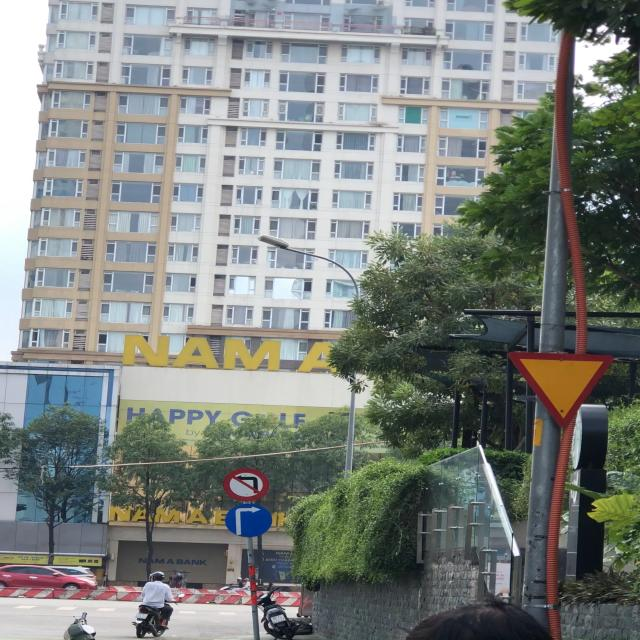Bien bao cam re trai: (224, 464, 271, 502)
Bien bao giao nhau voi duong uu tien: (506, 345, 616, 427)
Bien bao huong di phai theo: (223, 501, 275, 540)
